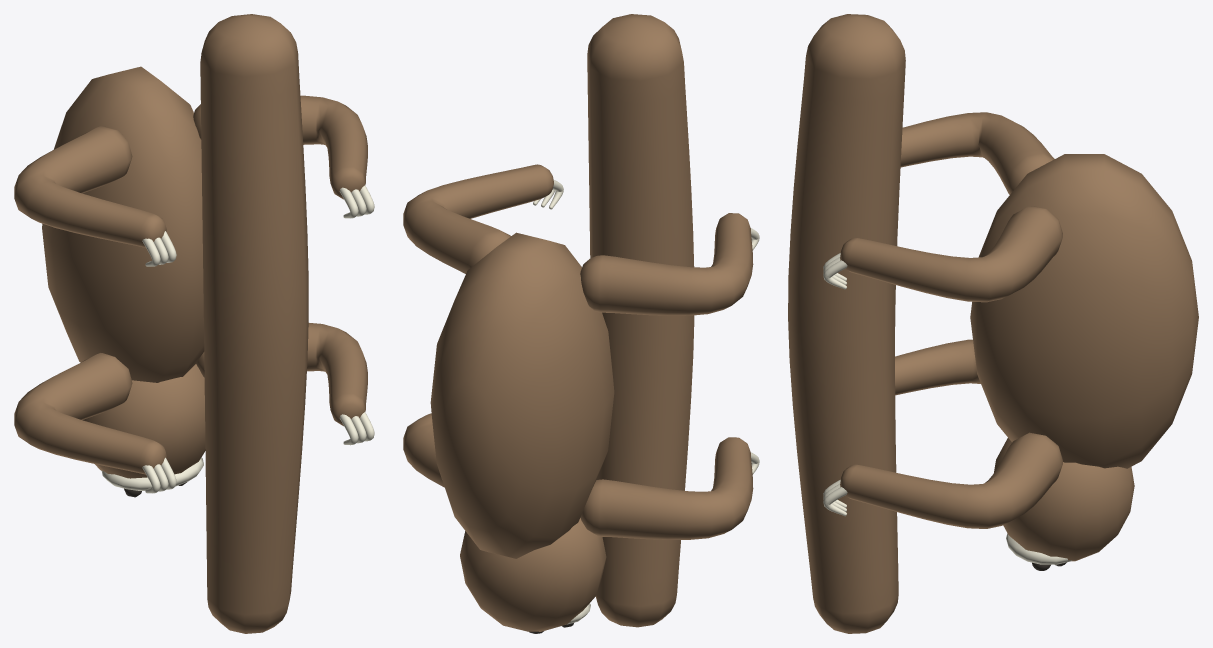
File: rainforest-and-jungle-fauna-sloth-climbing-332cfccc__21685.glb
The picture shows the model from 3 angles, left to right: view 1: azimuth 30°, elevation 25°; view 2: azimuth 150°, elevation 25°; view 3: azimuth 270°, elevation 25°; orthographic projection.
Parts seen in each view (by area): view 1: sloth-climbing; view 2: sloth-climbing; view 3: sloth-climbing.
Boxes of the visible parts, <box> form: sloth-climbing: <box>14,14,374,633</box>; sloth-climbing: <box>403,14,759,633</box>; sloth-climbing: <box>788,14,1198,633</box>.
Bounding box in the file's own units: 0.7064 × 1.24 × 0.75.
